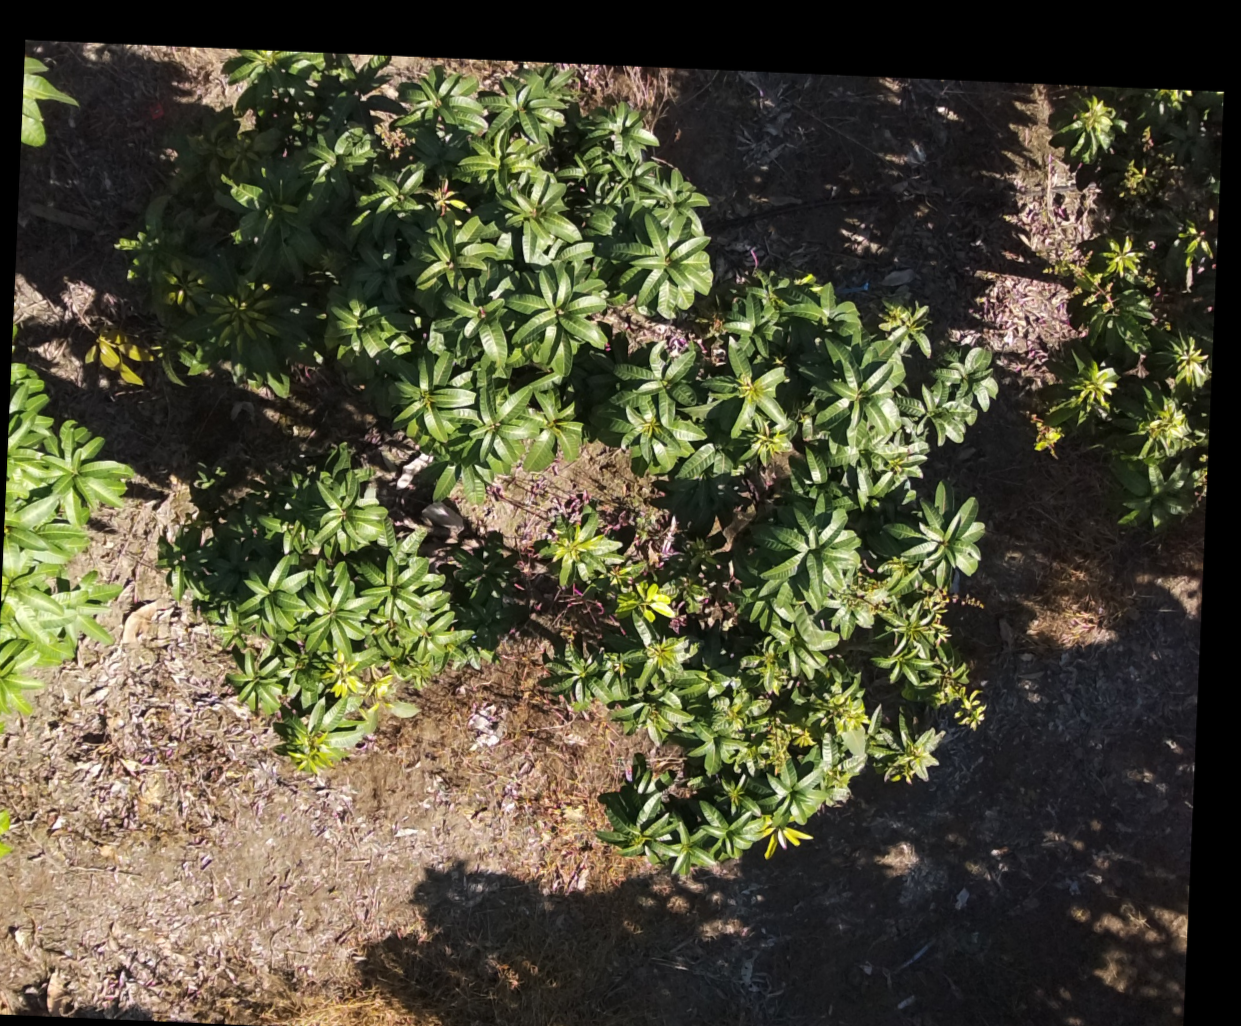flowers: (838, 558, 985, 724), (790, 666, 942, 779), (735, 642, 794, 772), (372, 114, 413, 158), (430, 177, 469, 217), (1028, 413, 1064, 453), (1192, 464, 1206, 497)
